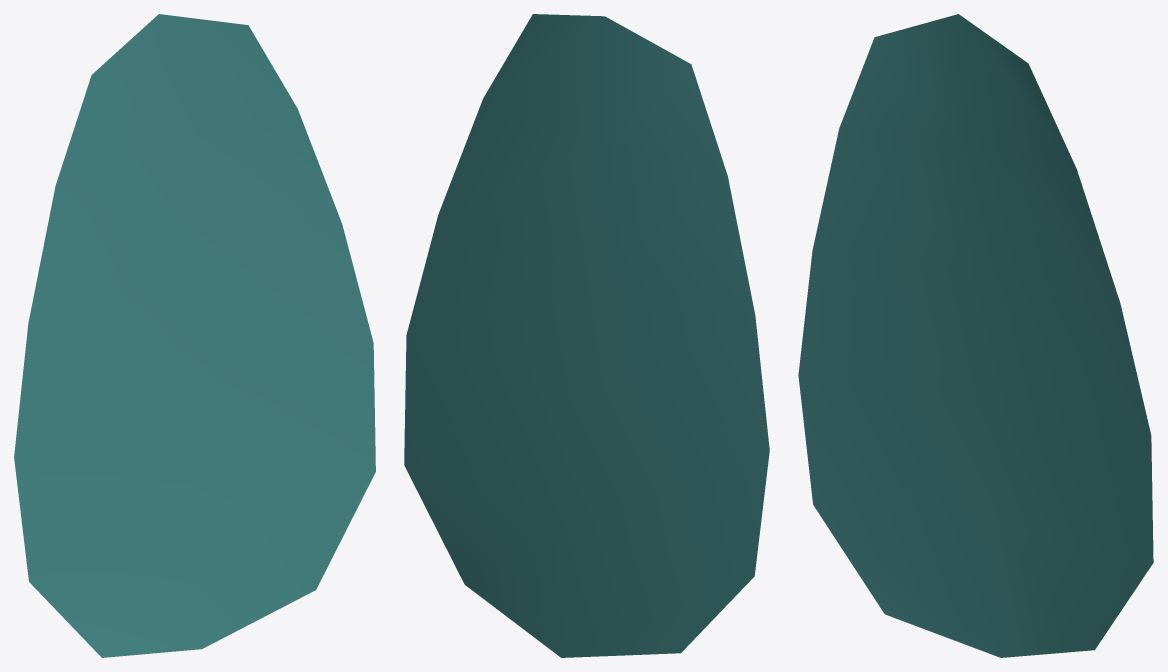
Rendered from budgie_feather_flight_tertiary_040.obj.
The picture shows the model from 3 angles, left to right: view 1: azimuth 30°, elevation 25°; view 2: azimuth 150°, elevation 25°; view 3: azimuth 330°, elevation 25°; orthographic projection. The views are drawn at different scales.
Parts seen in each view (by area): view 1: feather_flight_tertiary_040; view 2: feather_flight_tertiary_040; view 3: feather_flight_tertiary_040.
Boxes of the visible parts, left/top/right/bottom form: feather_flight_tertiary_040: left=14, top=14, right=375, bottom=657; feather_flight_tertiary_040: left=404, top=14, right=769, bottom=657; feather_flight_tertiary_040: left=798, top=14, right=1153, bottom=657.
Size of the model in its own units: 0.00732 by 0.0125 by 0.000322.
